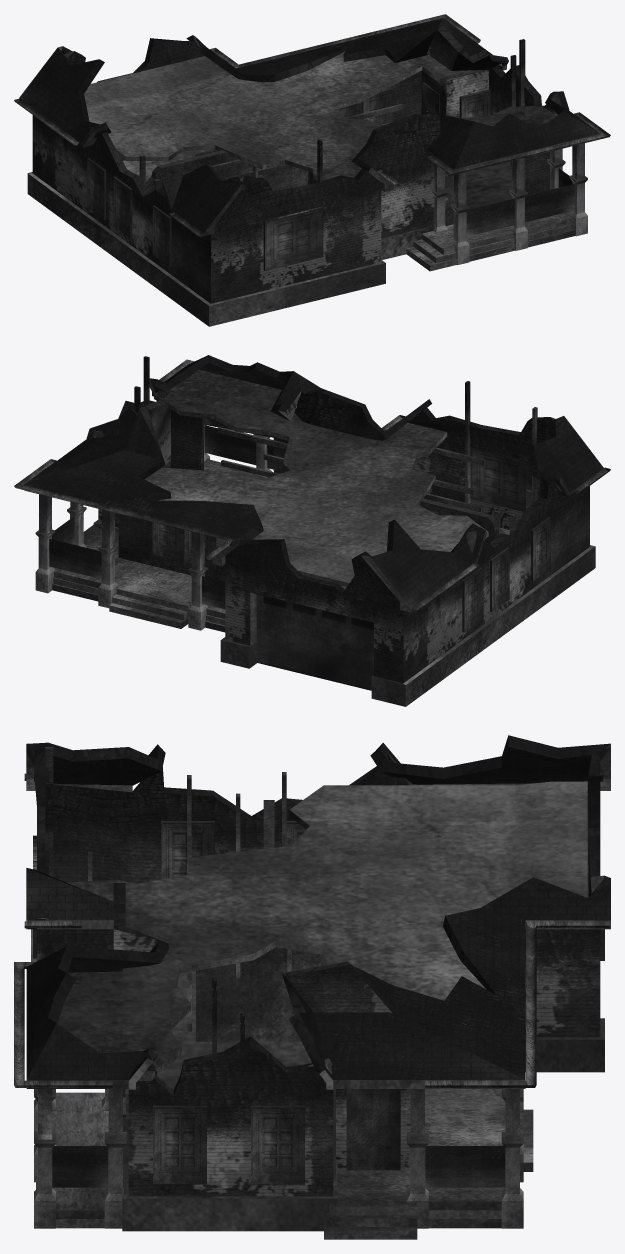
Rendered from collapsed_house.glb.
3 views of the same model, one above another, from view 1: azimuth 30°, elevation 25°; view 2: azimuth 150°, elevation 25°; view 3: azimuth 270°, elevation 25° (orthographic). The views are drawn at different scales.
Parts seen in each view (by area): view 1: Destroyed_House; view 2: Destroyed_House; view 3: Destroyed_House.
Boxes of the visible parts, box(x1,y1,x2,y2) form: Destroyed_House: box(14, 14, 610, 326); Destroyed_House: box(14, 355, 610, 706); Destroyed_House: box(14, 735, 610, 1239).
Bounding box in the file's own units: 10.78 × 3.87 × 8.62.
1 material, 1 textured.
